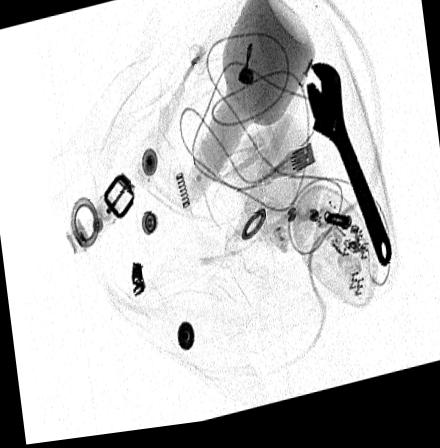Wrench: (304, 71, 391, 277)
